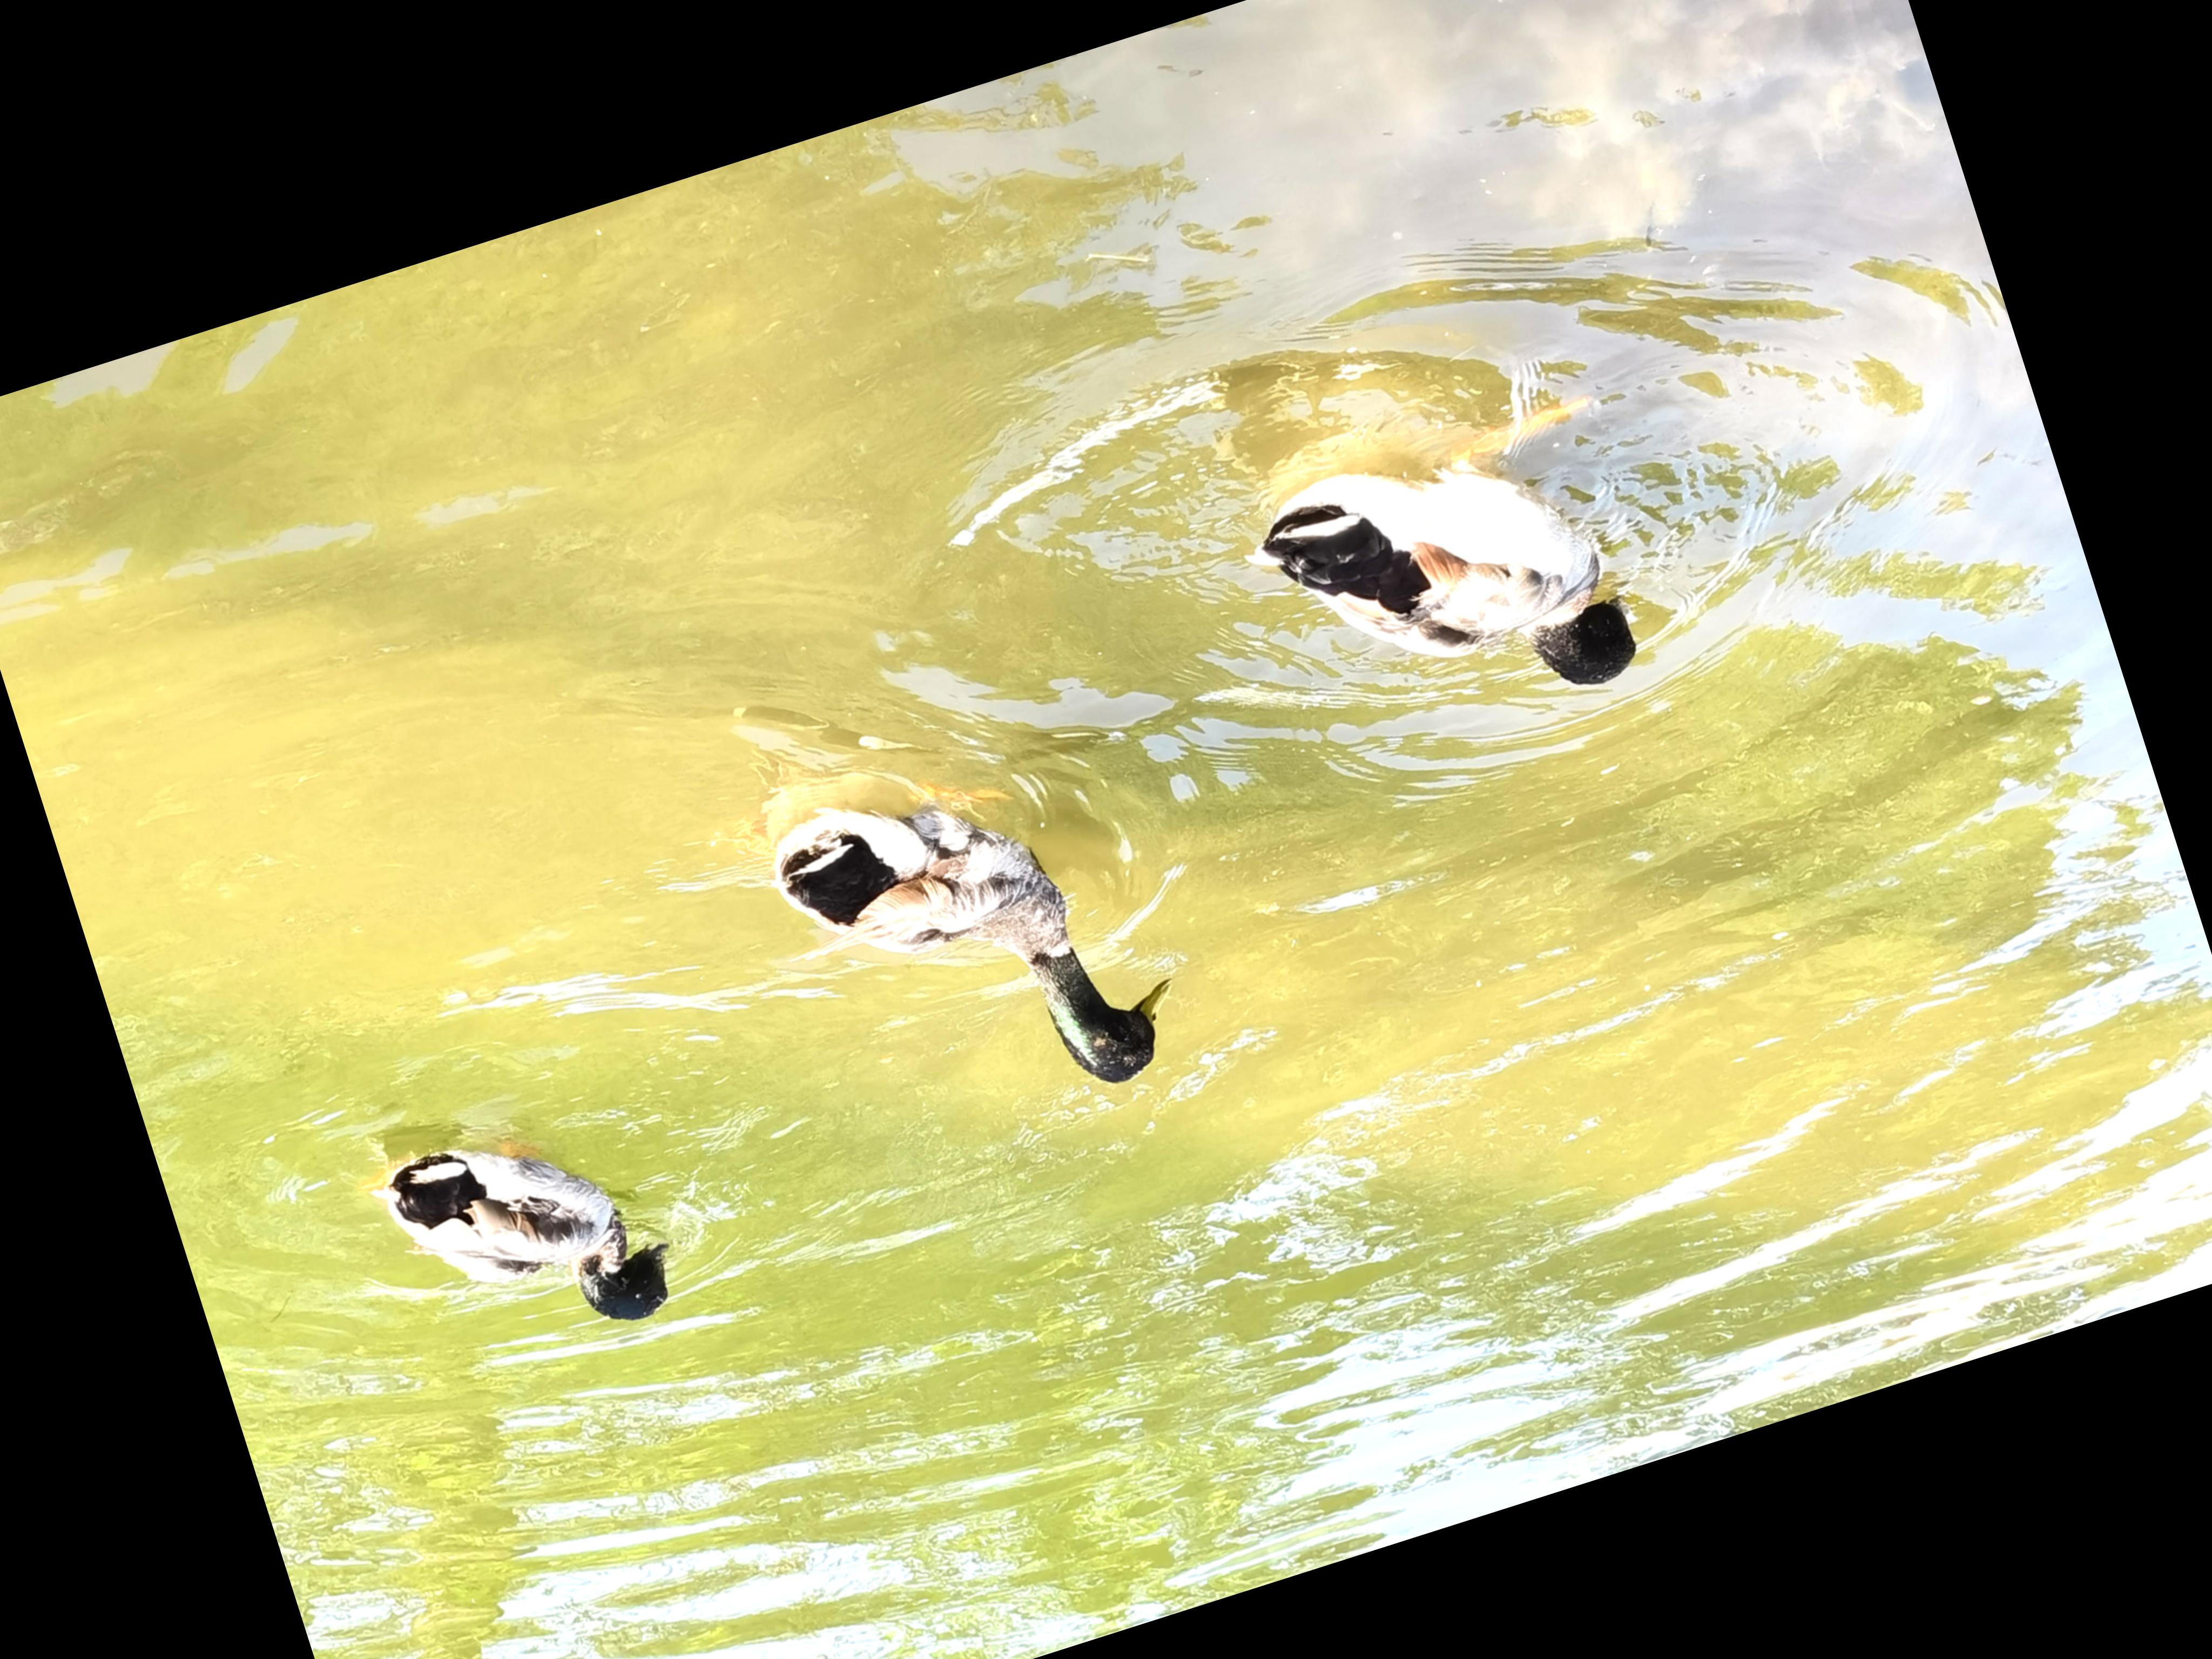duck: (686, 657, 1224, 1190), (1165, 312, 1724, 812), (336, 1049, 698, 1401)
